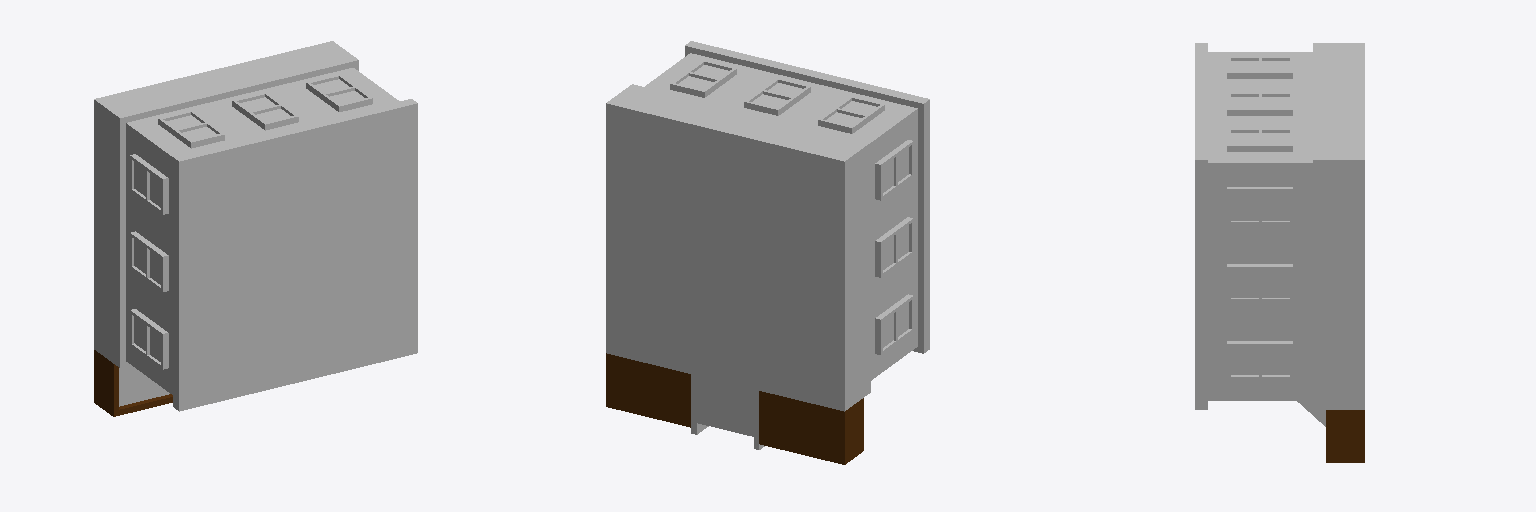
The model's file is tinker_12.obj.
The picture shows the model from 3 angles: view 1: azimuth 30°, elevation 25°; view 2: azimuth 150°, elevation 25°; view 3: azimuth 270°, elevation 25°; orthographic projection.
Parts seen in each view (by area): view 1: obj_0; view 2: obj_0; view 3: obj_0.
Part boxes in pixels (x1,y1,x2,y2): obj_0: (94,41,417,416); obj_0: (606,41,929,464); obj_0: (1195,43,1364,462).
Size of the model in its own units: 42 by 52 by 26.